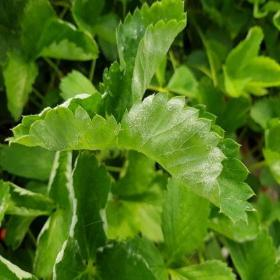Powdery Mildew Leaf: (117, 91, 259, 227), (98, 0, 188, 122), (5, 91, 122, 152), (68, 149, 112, 263), (90, 238, 159, 279), (52, 238, 91, 279)
